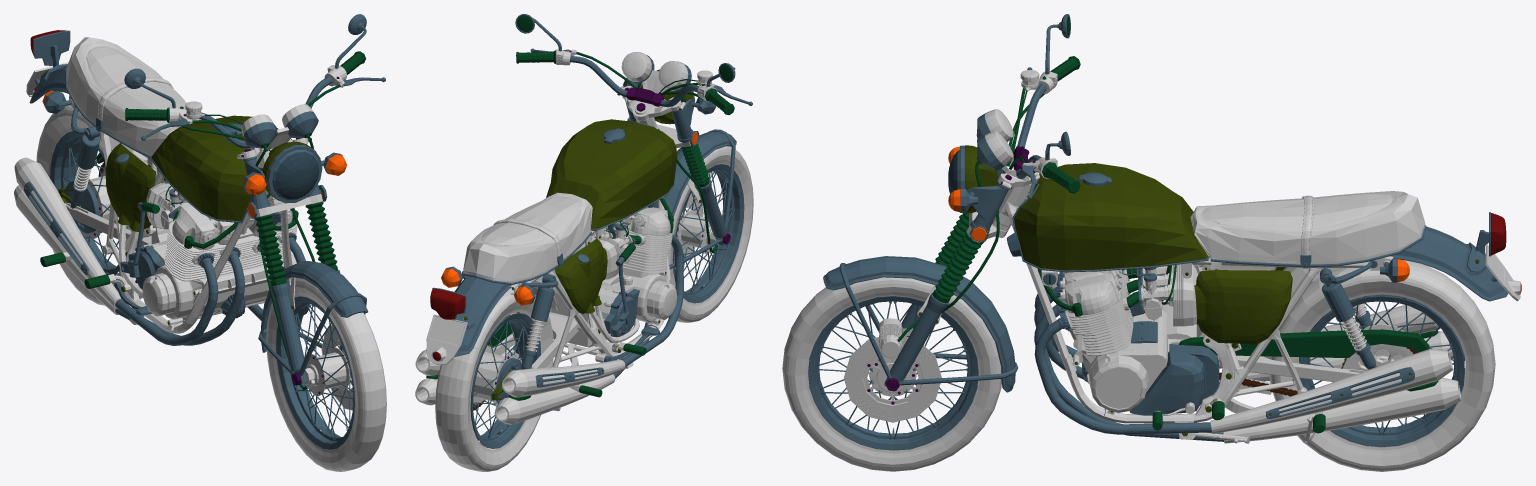
Rendered from honda_cb_750_four_TS_00.obj.
3 renders of one model, left to right at view 1: azimuth 30°, elevation 25°; view 2: azimuth 150°, elevation 25°; view 3: azimuth 270°, elevation 25°, orthographic. The views are drawn at different scales.
Parts seen in each view (by area): view 1: 0Pneumatici, Carrozzeria, 00Cerchi, sellaLP, 00CromMed, 0Gomma, 00CromeVarie, 00Steel, 00frame, 0terminali, 00Manubrio, 00CrhomeSmall (+9 smaller); view 2: Carrozzeria, 0Pneumatici, sellaLP, 00Cerchi, 0terminali, 00Steel, 00frame, 00CromeVarie, 00CromMed, 00Manubrio, 0Gomma, 00_Plastica_nera_Opaca (+11 smaller); view 3: 0Pneumatici, Carrozzeria, 00Cerchi, sellaLP, 0terminali, 00frame, 00CromMed, 00Manubrio, 00Steel, 00CromeVarie, 0Gomma, 00CrhomeSmall (+8 smaller).
Boxes of the visible parts, x1,y1,x2,y2 form: 0Pneumatici: (36,105,386,471); Carrozzeria: (105,115,316,231); 00Cerchi: (50,77,385,449); sellaLP: (66,37,201,156); 00CromMed: (29,65,368,352); 0Gomma: (40,51,365,390); 00CromeVarie: (24,30,366,434); 00Steel: (63,95,352,396); 00frame: (64,111,322,333); 0terminali: (14,157,123,314); 00Manubrio: (124,14,366,383); 00CrhomeSmall: (44,91,352,440); Carrozzeria: (546,69,692,313); 0Pneumatici: (435,146,753,471); sellaLP: (463,192,592,282); 00Cerchi: (470,48,752,448); 0terminali: (415,348,625,424); 00Steel: (465,180,714,407); 00frame: (492,117,690,411); 00CromeVarie: (432,129,735,434); 00CromMed: (454,55,736,356); 00Manubrio: (515,14,735,337); 0Gomma: (426,50,734,400); 00_Plastica_nera_Opaca: (426,49,717,431); 0Pneumatici: (782,260,1495,471); Carrozzeria: (965,145,1292,344); 00Cerchi: (808,67,1464,450); sellaLP: (1190,191,1425,264); 0terminali: (1210,305,1461,443); 00frame: (966,184,1370,443); 00CromMed: (823,113,1508,392); 00Manubrio: (884,14,1219,415); 00Steel: (869,256,1412,415); 00CromeVarie: (839,212,1490,434); 0Gomma: (897,56,1438,433); 00CrhomeSmall: (819,183,1454,438).
Size of the model in its own units: 898 by 1277 by 2166.
